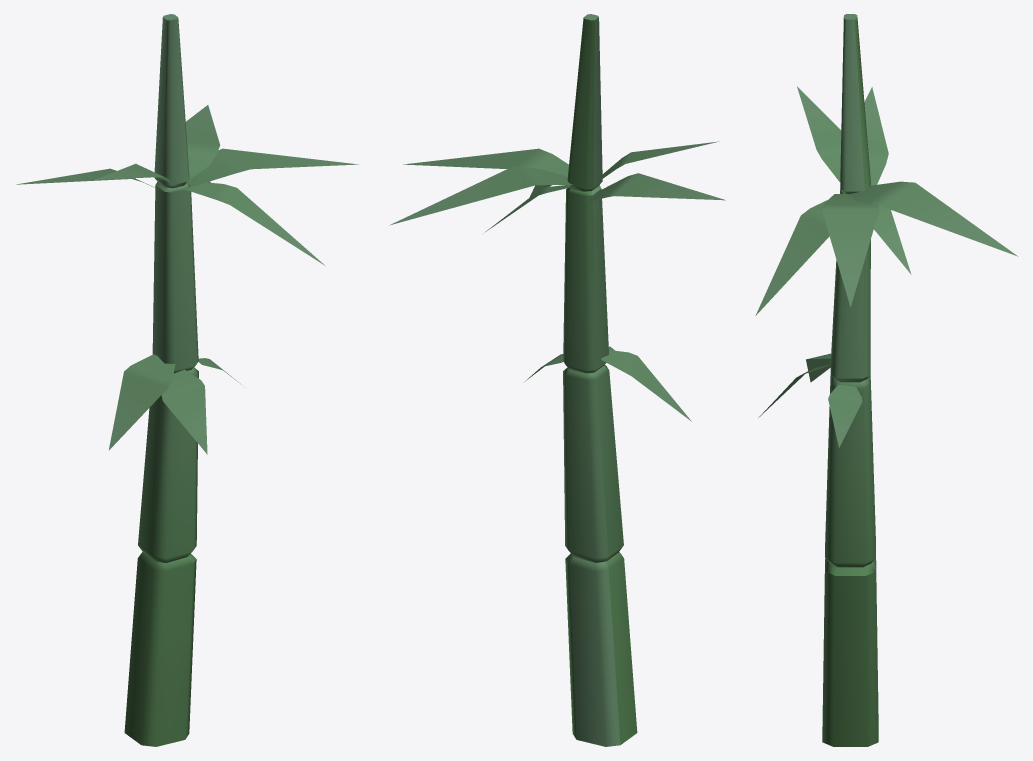
The model's file is Bamboo_2.fbx.
3 views of the same model, side by side, from view 1: azimuth 30°, elevation 25°; view 2: azimuth 150°, elevation 25°; view 3: azimuth 270°, elevation 25° (orthographic).
Parts seen in each view (by area): view 1: pCube2; view 2: pCube2; view 3: pCube2.
Boxes of the visible parts, x1,y1,x2,y2 form: pCube2: [16, 14, 358, 746]; pCube2: [389, 14, 725, 746]; pCube2: [755, 14, 1017, 746].
Bounding box in the file's own units: 84.19 × 171 × 56.37.
